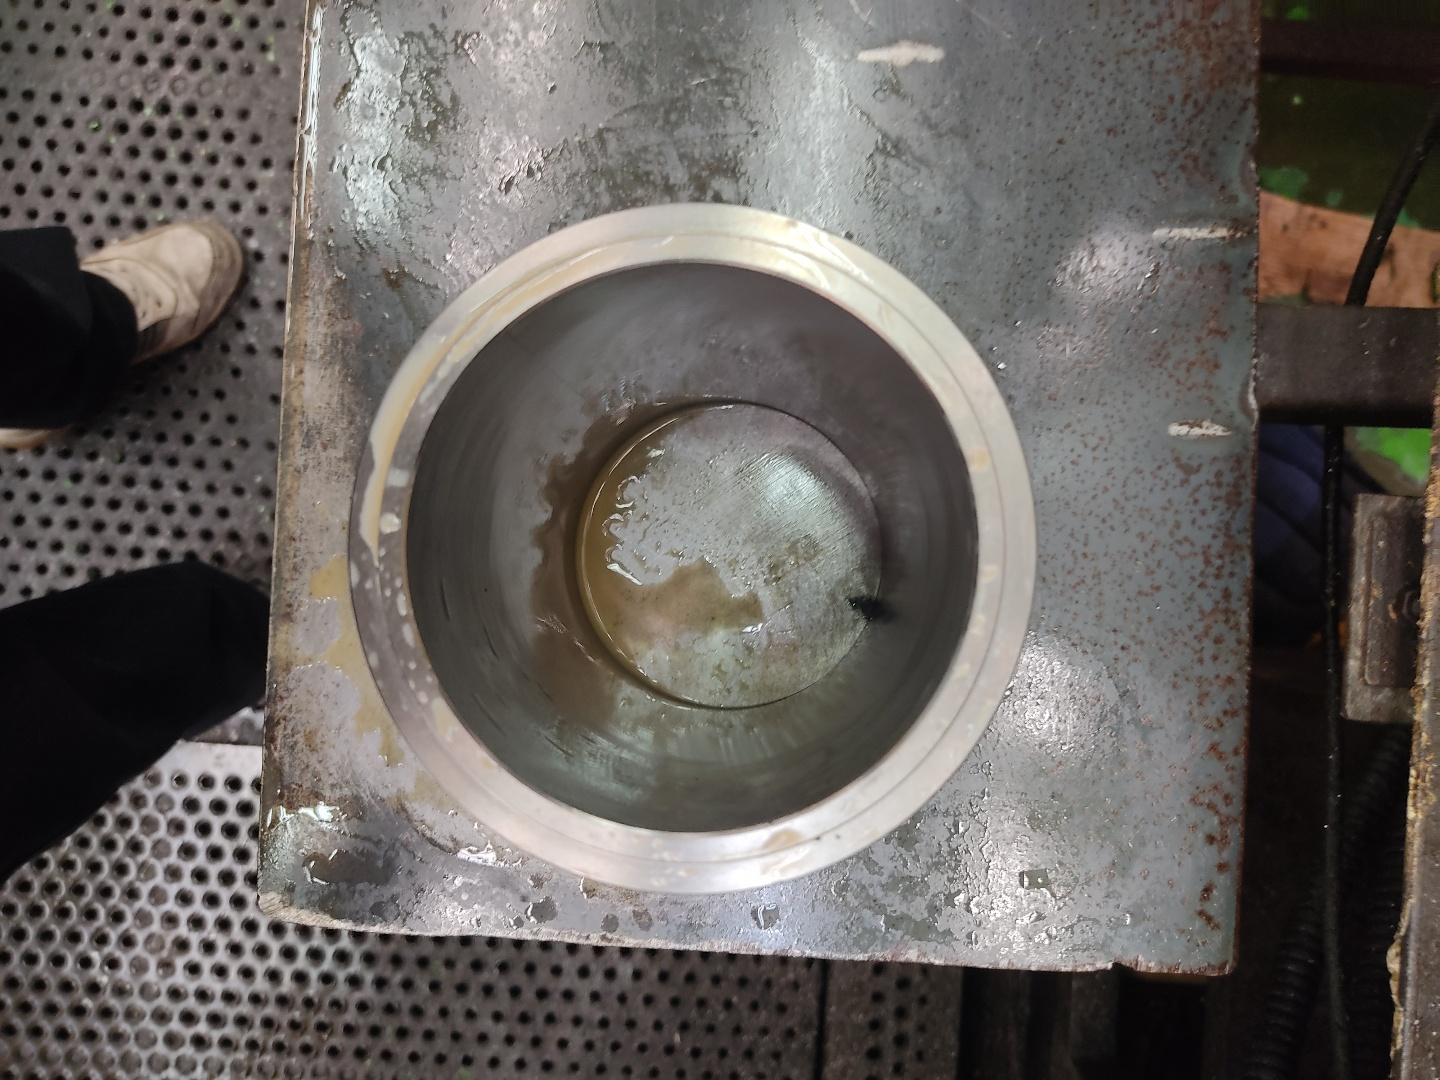cylinder: (344, 199, 1042, 900)
